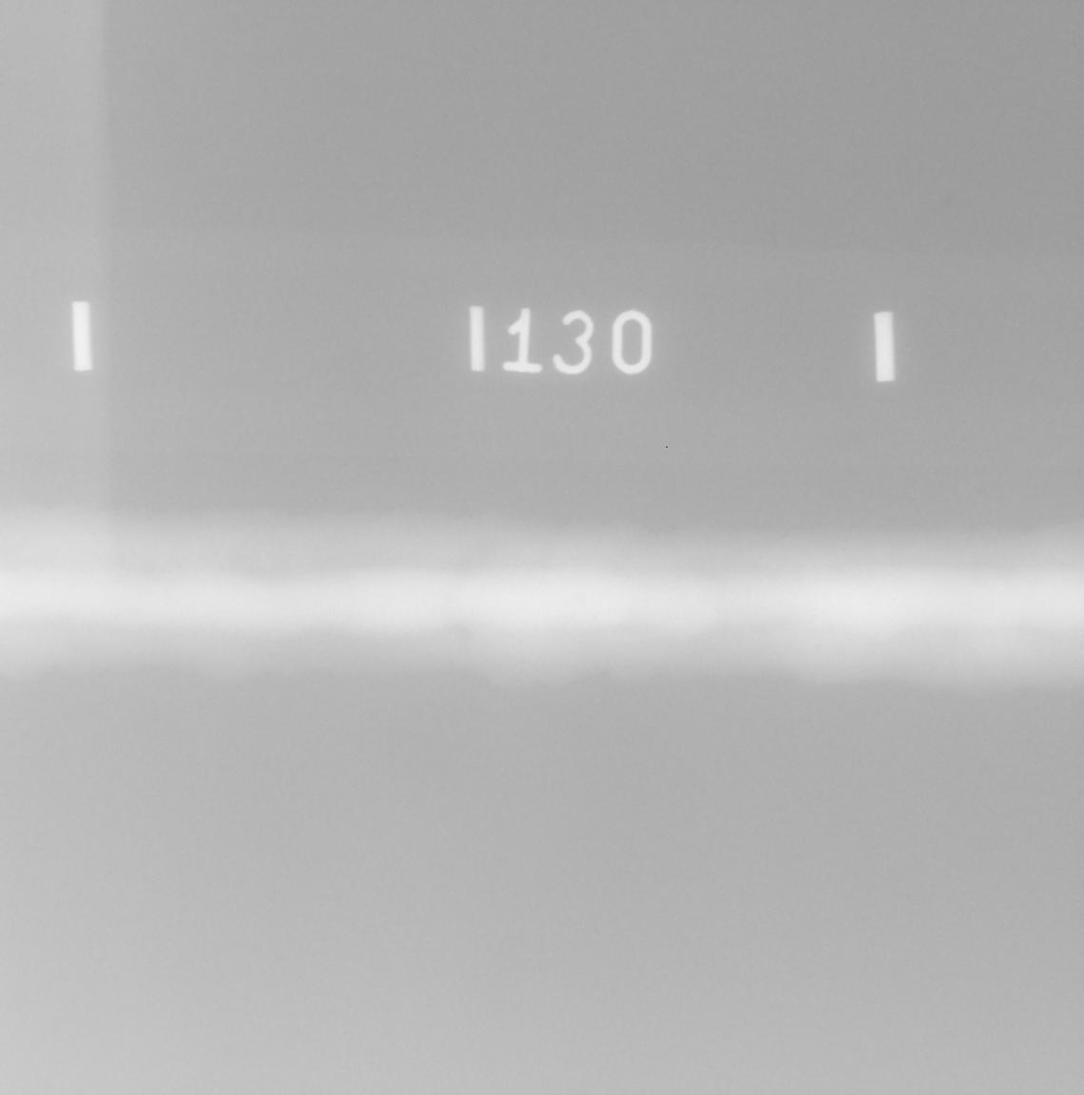Pore/Porosity: (575, 591, 587, 602), (715, 608, 720, 613)
